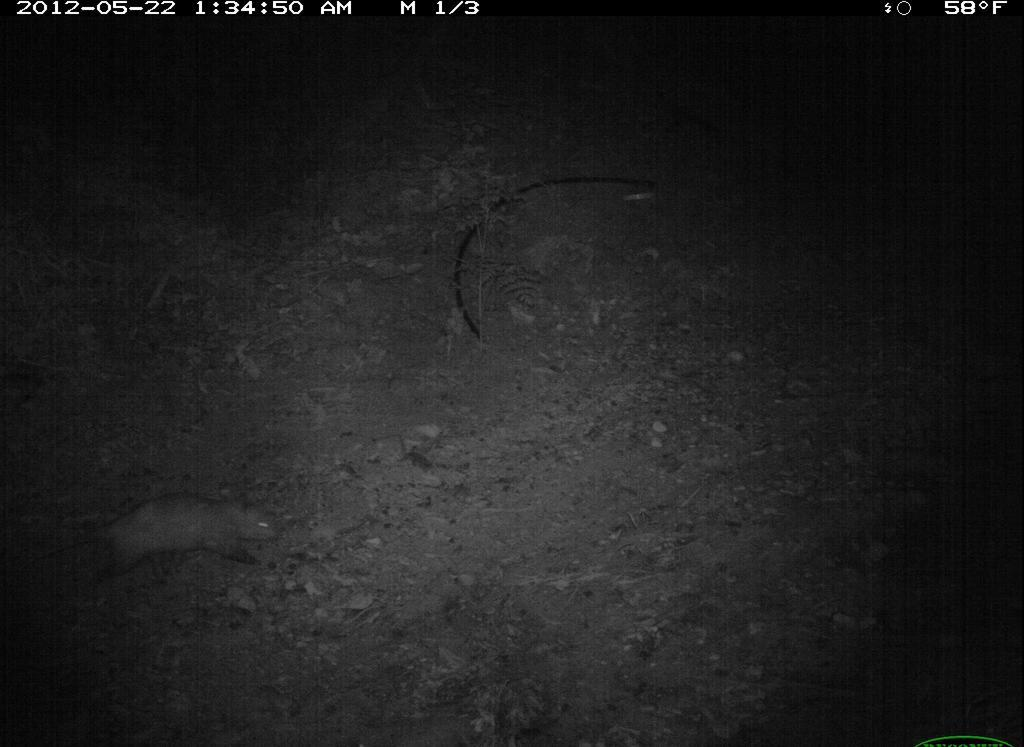opossum: (31, 489, 280, 582)
